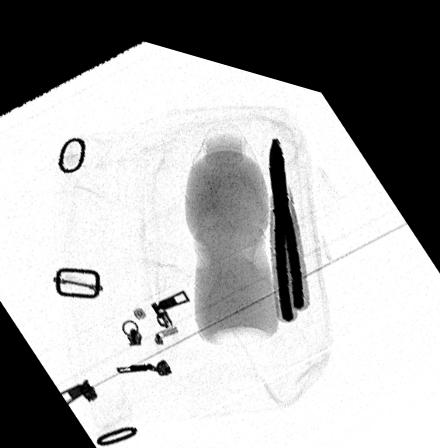Pliers: (268, 122, 303, 306)
